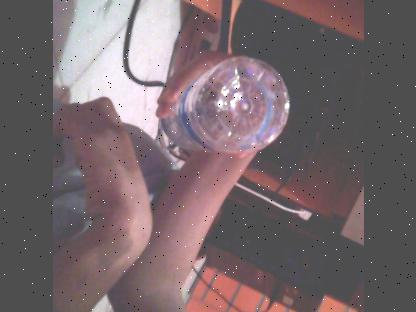Plastic Bottle: (170, 58, 290, 158)
